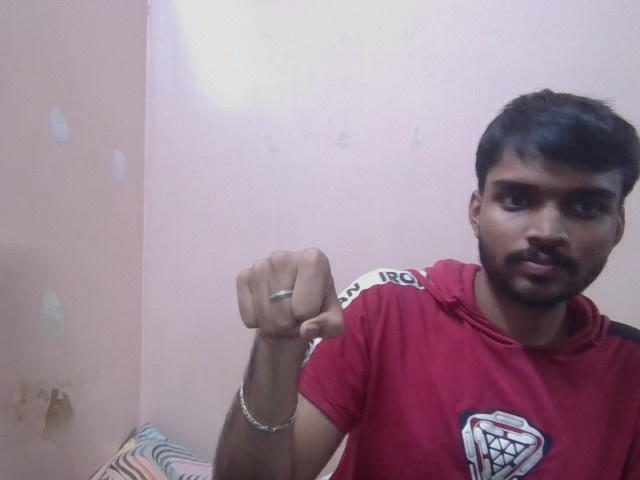Yes: (226, 246, 350, 342)
